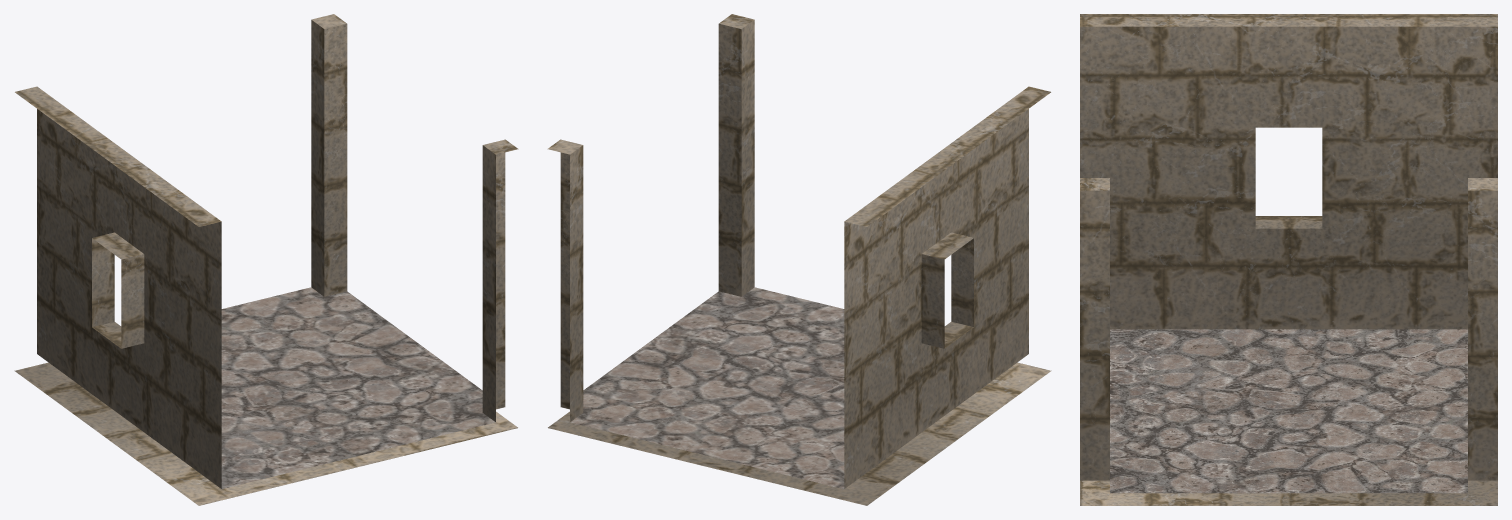
Rendered from ModuleTWindow.fbx.
3 views of the same model, side by side, from view 1: azimuth 30°, elevation 25°; view 2: azimuth 150°, elevation 25°; view 3: azimuth 270°, elevation 25° (orthographic). The views are drawn at different scales.
Parts seen in each view (by area): view 1: ModuleTFloorWalls, ModuleTFloorTile, ModuleTFloorEdge; view 2: ModuleTFloorWalls, ModuleTFloorTile, ModuleTFloorEdge; view 3: ModuleTFloorWalls, ModuleTFloorTile, ModuleTFloorEdge.
Part boxes in pixels (left/top/right/bottom): ModuleTFloorWalls: left=15, top=14, right=518, bottom=488; ModuleTFloorTile: left=221, top=287, right=495, bottom=488; ModuleTFloorEdge: left=14, top=362, right=517, bottom=505; ModuleTFloorWalls: left=547, top=14, right=1050, bottom=488; ModuleTFloorTile: left=570, top=287, right=844, bottom=488; ModuleTFloorEdge: left=548, top=362, right=1051, bottom=505; ModuleTFloorWalls: left=1080, top=14, right=1497, bottom=480; ModuleTFloorTile: left=1110, top=329, right=1467, bottom=493; ModuleTFloorEdge: left=1080, top=480, right=1497, bottom=505.
Bounding box in the file's own units: 300 × 250 × 300.
